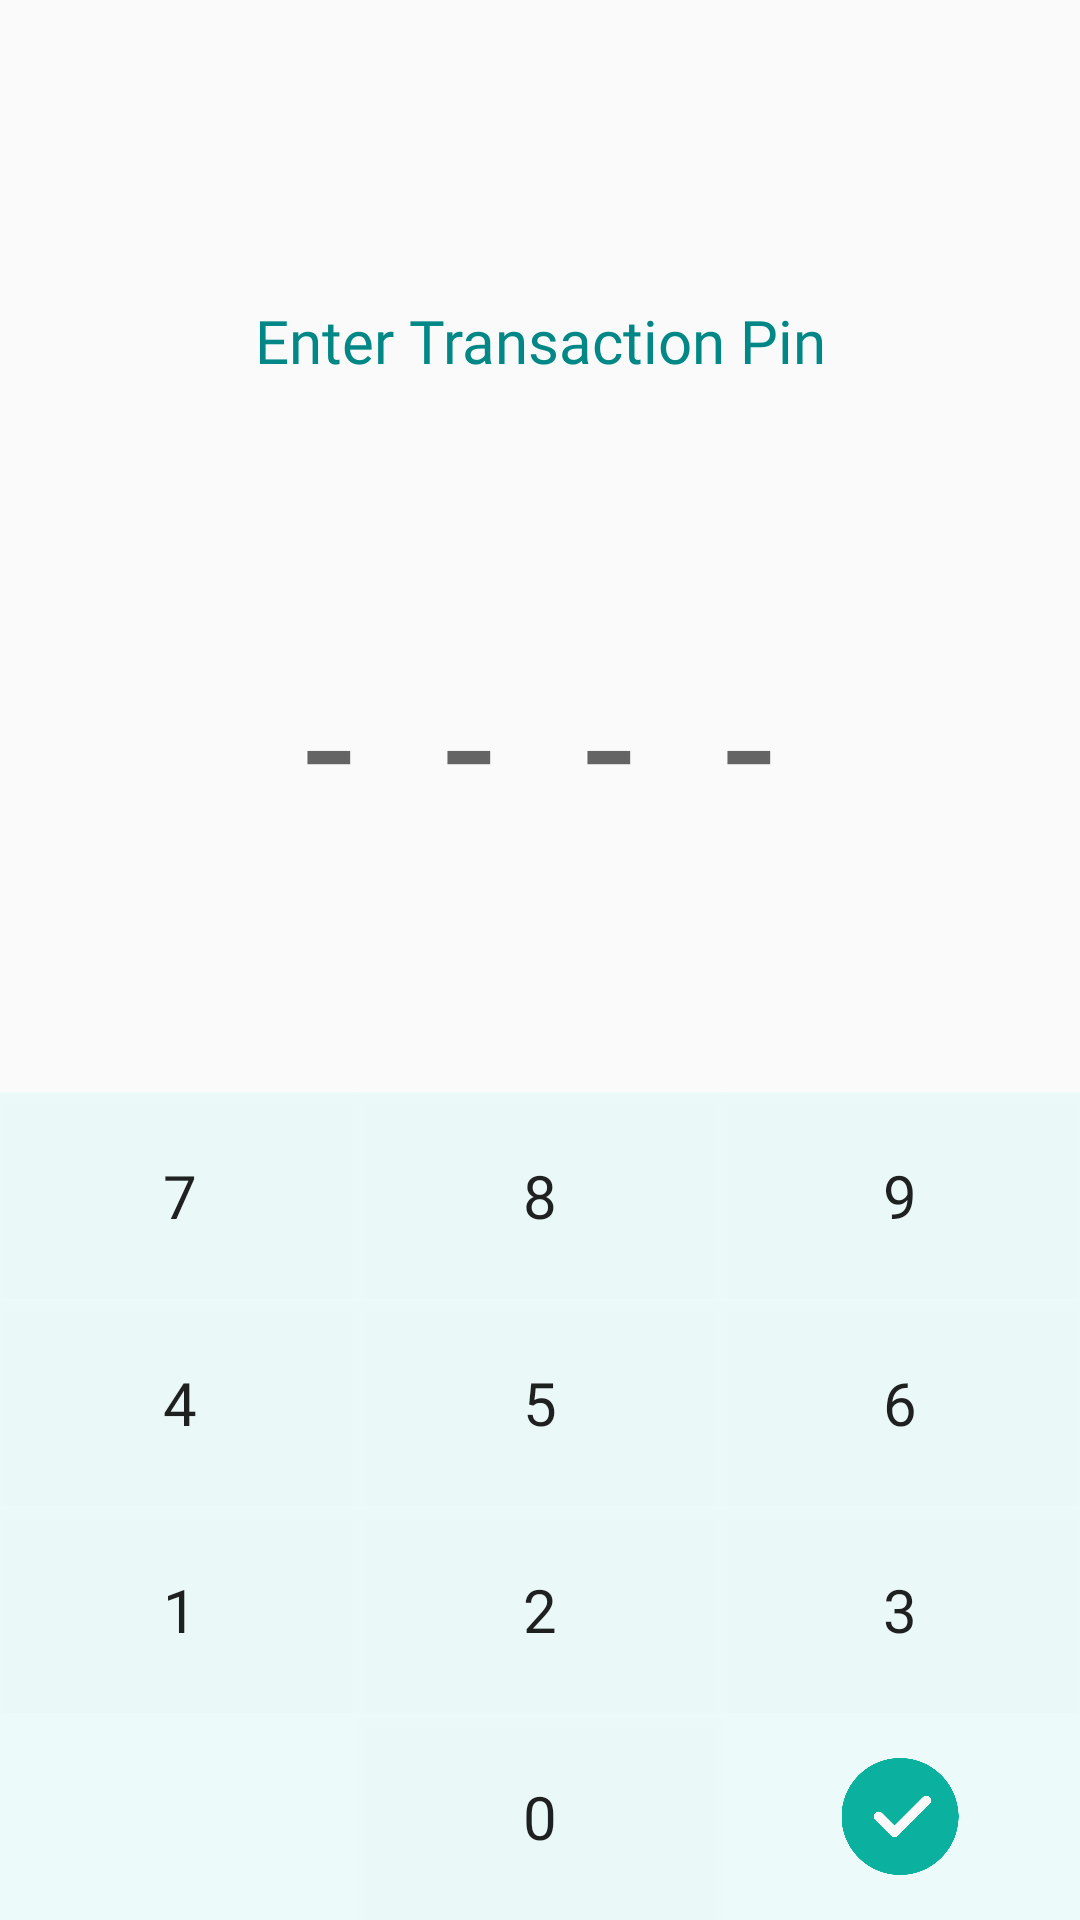

Screen size 1080×1920. Icon name, then its center in pixels as [x,y]:
check: [900,1816]
